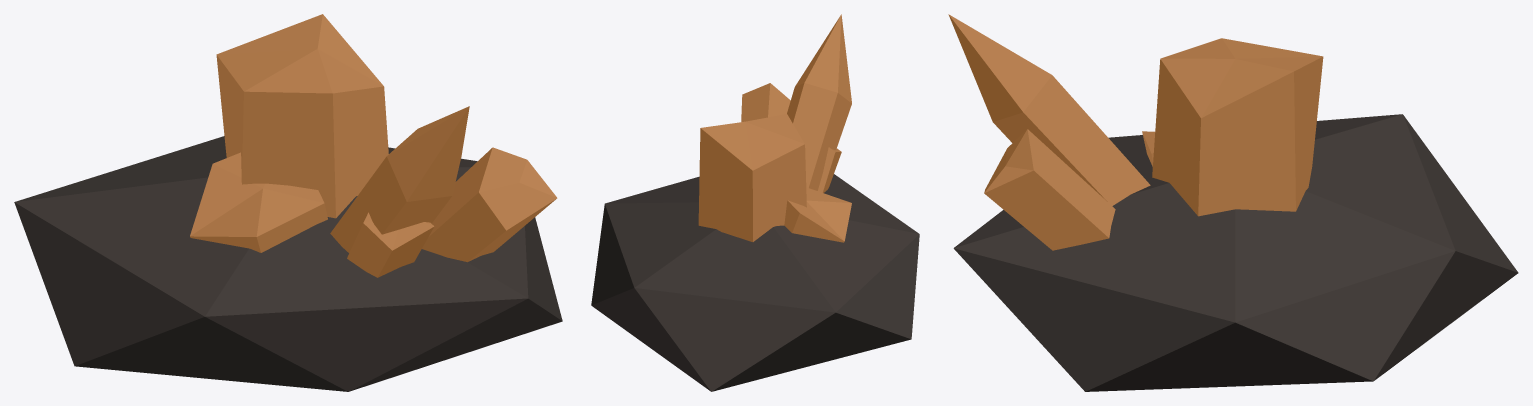
Rendered from wb_crystal_knee_broken_lod1.glb.
The picture shows the model from 3 angles, left to right: view 1: azimuth 30°, elevation 25°; view 2: azimuth 150°, elevation 25°; view 3: azimuth 270°, elevation 25°; orthographic projection. The views are drawn at different scales.
Visible parts, largest first — view 1: wb_crystal_knee_broken_lod1; view 2: wb_crystal_knee_broken_lod1; view 3: wb_crystal_knee_broken_lod1.
Boxes of the visible parts, x1,y1,x2,y2 form: wb_crystal_knee_broken_lod1: (14, 14, 562, 391); wb_crystal_knee_broken_lod1: (591, 14, 919, 391); wb_crystal_knee_broken_lod1: (948, 14, 1518, 391).
Size of the model in its own units: 1.03 by 0.7939 by 1.16.
